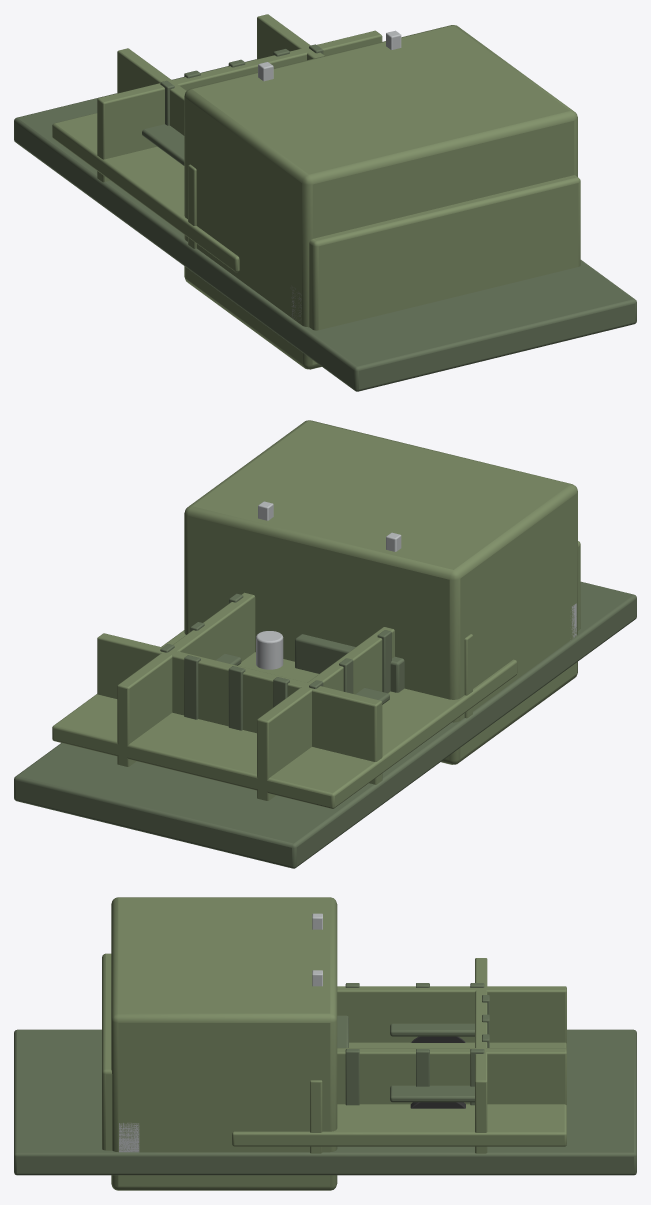
The model's file is fieldvision-utility-vehicle.glb.
3 renders of one model, top to bottom at view 1: azimuth 30°, elevation 25°; view 2: azimuth 150°, elevation 25°; view 3: azimuth 270°, elevation 25°, orthographic. The views are drawn at different scales.
Visible parts, largest first — view 1: Cab, Chassis, Hood, BedFloor, BedRailTail, BedRailR, BedRailL, Mudguard_-1.0_1.45, BedRailFront; view 2: Cab, Chassis, BedFloor, BedRailTail, BedRailL, BedRailR, BedToolbox, BedFuelCan, TailStake_1, TailStake_2; view 3: Cab, Chassis, BedFloor, BedRailR, BedRailL, BedRailTail, Hood, Mudguard_1.0_1.45, Mudguard_-1.0_1.45, RailStakeL_1, BedRailFront, Bumper (+1 smaller).
Part boxes in pixels (x1,y1,x2,y2): Cab: [184, 25, 577, 369]; Chassis: [14, 59, 636, 391]; Hood: [309, 175, 580, 330]; BedFloor: [52, 113, 239, 272]; BedRailTail: [97, 30, 382, 182]; BedRailR: [117, 48, 186, 135]; BedRailL: [257, 14, 324, 60]; Mudguard_-1.0_1.45: [142, 124, 184, 165]; BedRailFront: [188, 164, 196, 248]; Cab: [184, 420, 577, 764]; Chassis: [14, 581, 636, 868]; BedFloor: [52, 630, 517, 808]; BedRailTail: [97, 633, 382, 784]; BedRailL: [117, 592, 255, 766]; BedRailR: [257, 627, 394, 800]; BedToolbox: [295, 634, 404, 692]; BedFuelCan: [256, 631, 283, 669]; TailStake_1: [228, 666, 245, 730]; TailStake_2: [184, 655, 200, 719]; Cab: [111, 897, 337, 1190]; Chassis: [14, 1029, 636, 1175]; BedFloor: [232, 1042, 566, 1146]; BedRailR: [337, 986, 566, 1043]; BedRailL: [337, 1048, 566, 1105]; BedRailTail: [475, 958, 487, 1153]; Hood: [102, 953, 112, 1150]; Mudguard_1.0_1.45: [390, 1085, 474, 1102]; Mudguard_-1.0_1.45: [390, 1023, 474, 1036]; RailStakeL_1: [345, 1049, 359, 1105]; BedRailFront: [310, 1080, 322, 1153]; Bumper: [119, 1123, 139, 1152].
Bounding box in the file's own units: 3.8 × 2.67 × 8.
